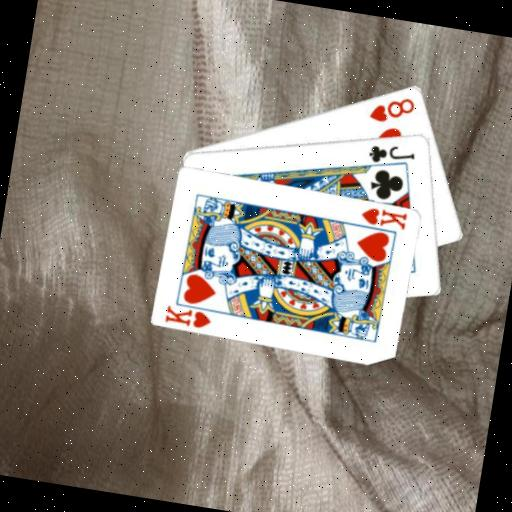8H: (365, 89, 418, 128)
JC: (364, 137, 418, 170)
KH: (162, 301, 215, 331), (357, 202, 409, 231)
